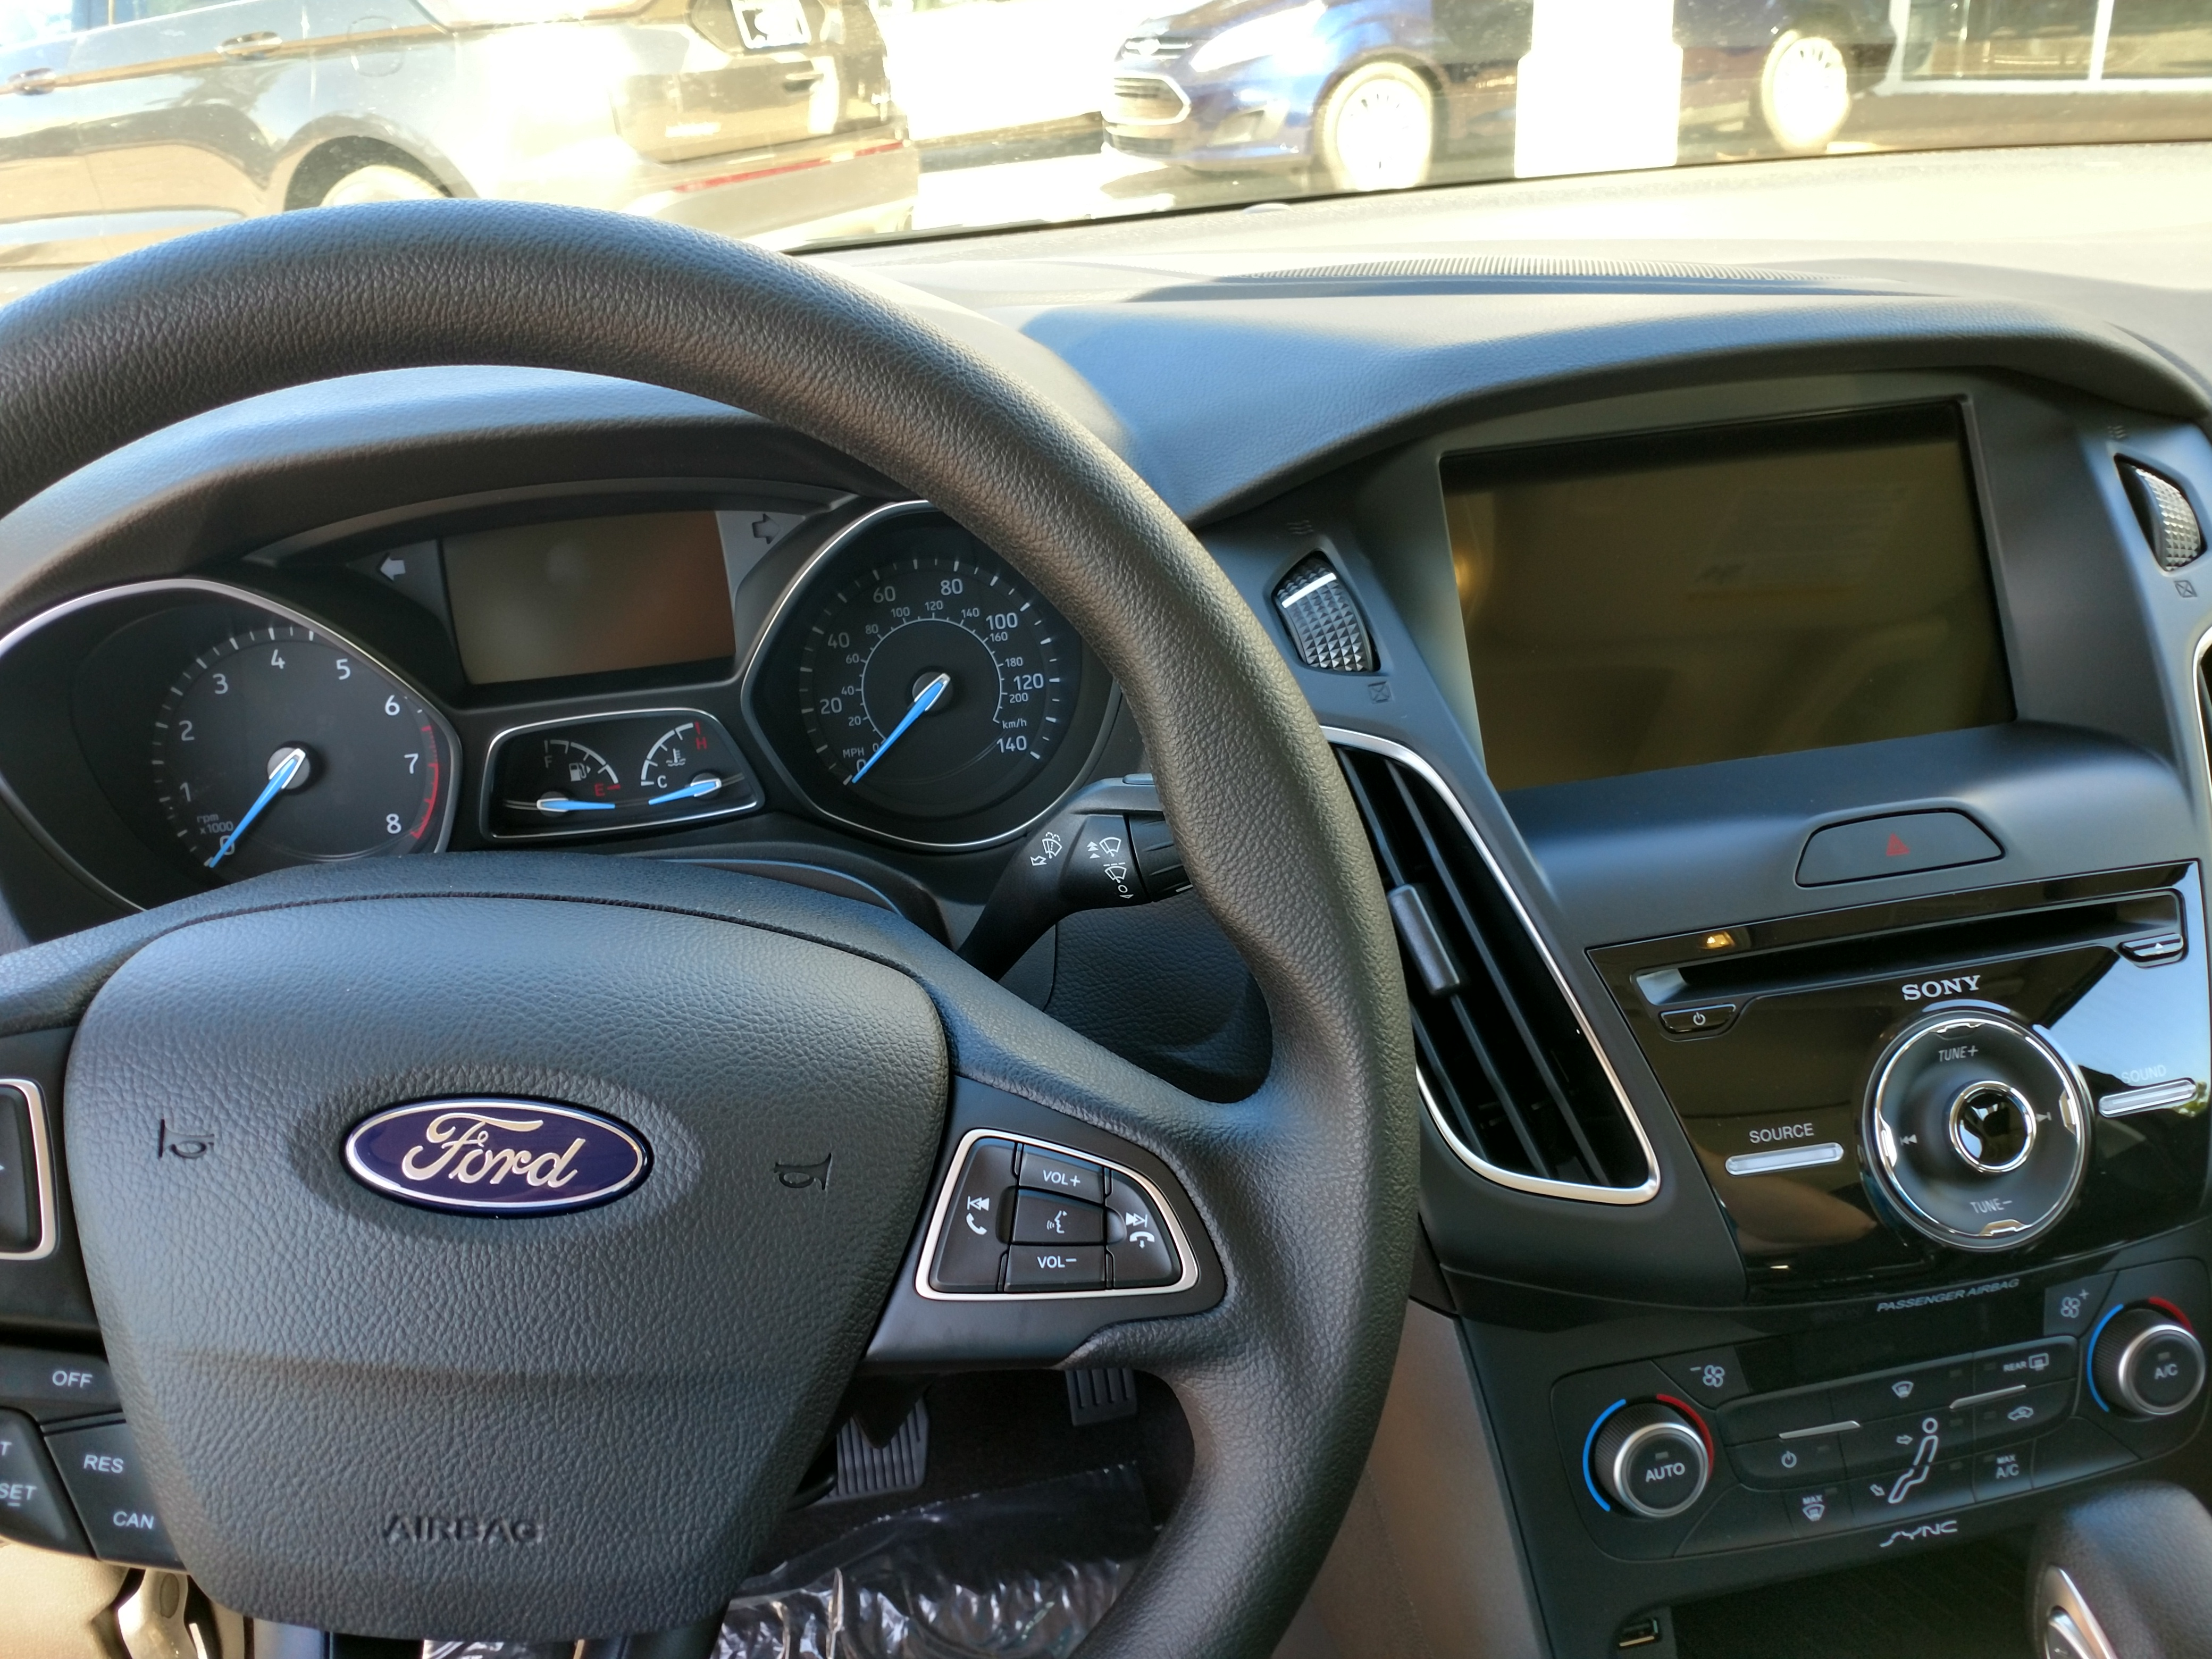Ford: (326, 1082, 674, 1232)
